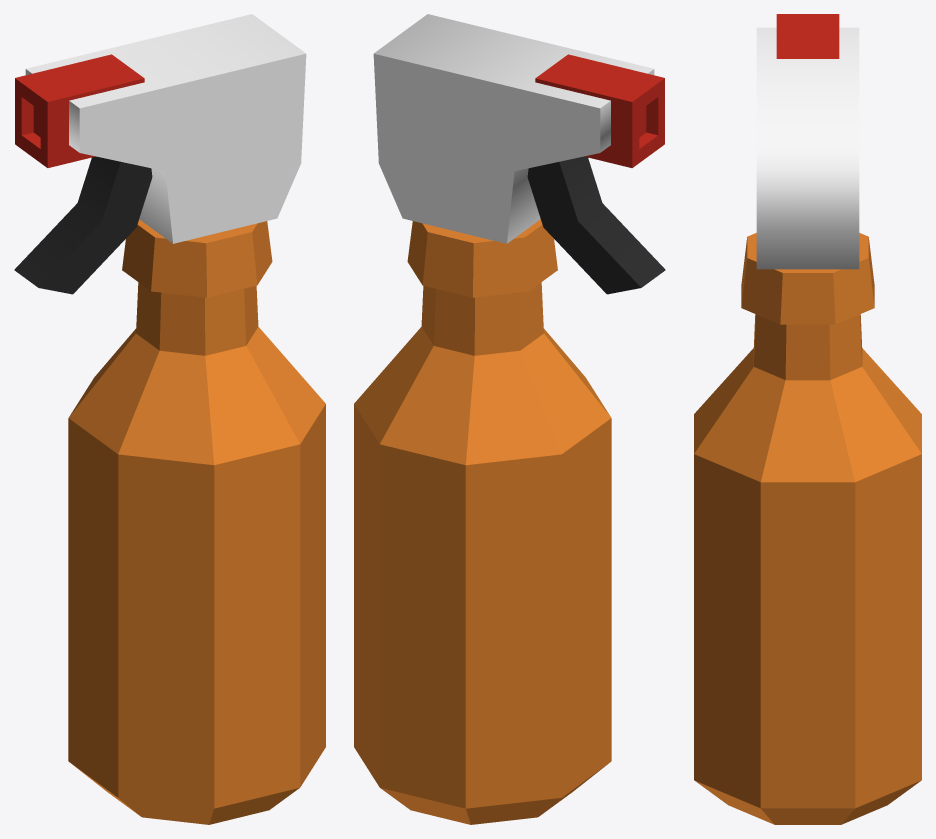
Rendered from cleaning_sprayBottle.glb.
3 renders of one model, left to right at view 1: azimuth 30°, elevation 25°; view 2: azimuth 150°, elevation 25°; view 3: azimuth 270°, elevation 25°, orthographic. The views are drawn at different scales.
Parts seen in each view (by area): view 1: mesh_spray_01; view 2: mesh_spray_01; view 3: mesh_spray_01.
Part boxes in pixels (box(x1,y1,x2,y2)): mesh_spray_01: box(14, 14, 325, 824); mesh_spray_01: box(354, 14, 665, 824); mesh_spray_01: box(694, 14, 921, 824).
Size of the model in its own units: 0.1672 by 0.4287 by 0.1264.
1 material, 1 textured.
